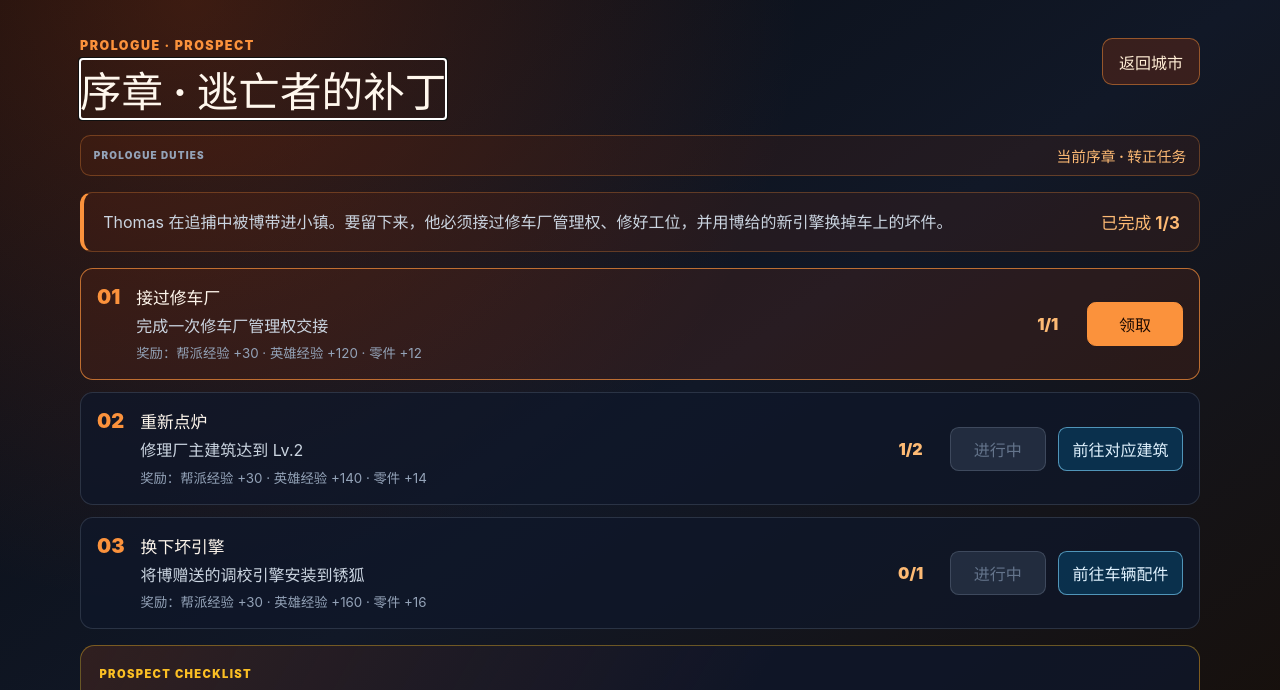
Test: ChapterPanel › claims a completed reward and switches the task to its claimed state
The image size is (1280, 690).
Expected: the element "接过修车厂" is shown, x1=80 y1=268 x2=1200 y2=380
Click the button "领取" at [1135, 324], box x1=1087 y1=302 x2=1183 y2=346
(page scrolled)
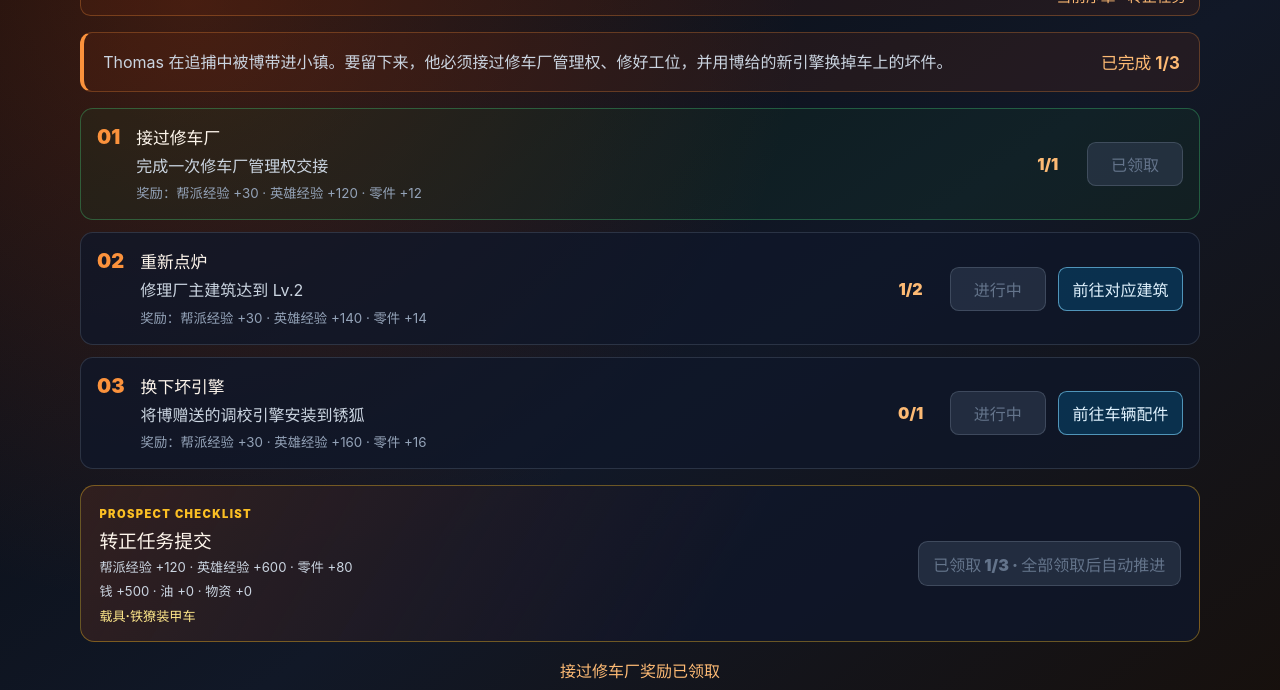
Expected: the button "已领取" is disabled, x1=1087 y1=142 x2=1183 y2=186
Expected: the text "接过修车厂奖励已领取" is shown, x1=560 y1=661 x2=720 y2=681
